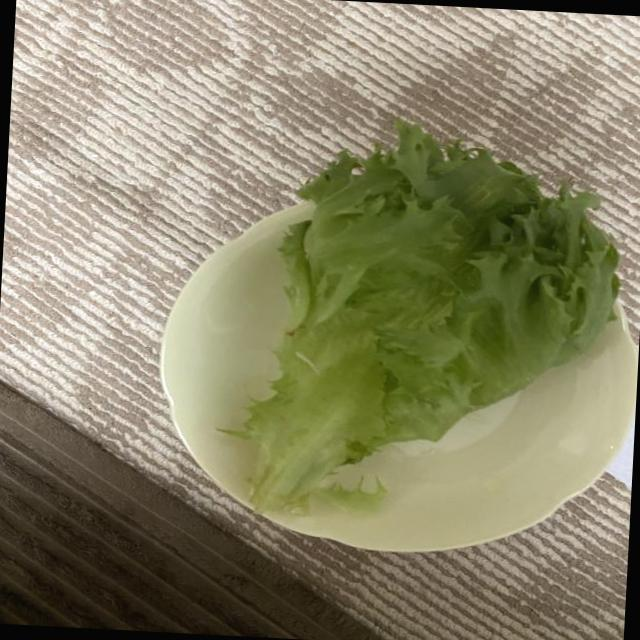Lettuce-Ready-to-Harvest: (244, 121, 619, 510)
